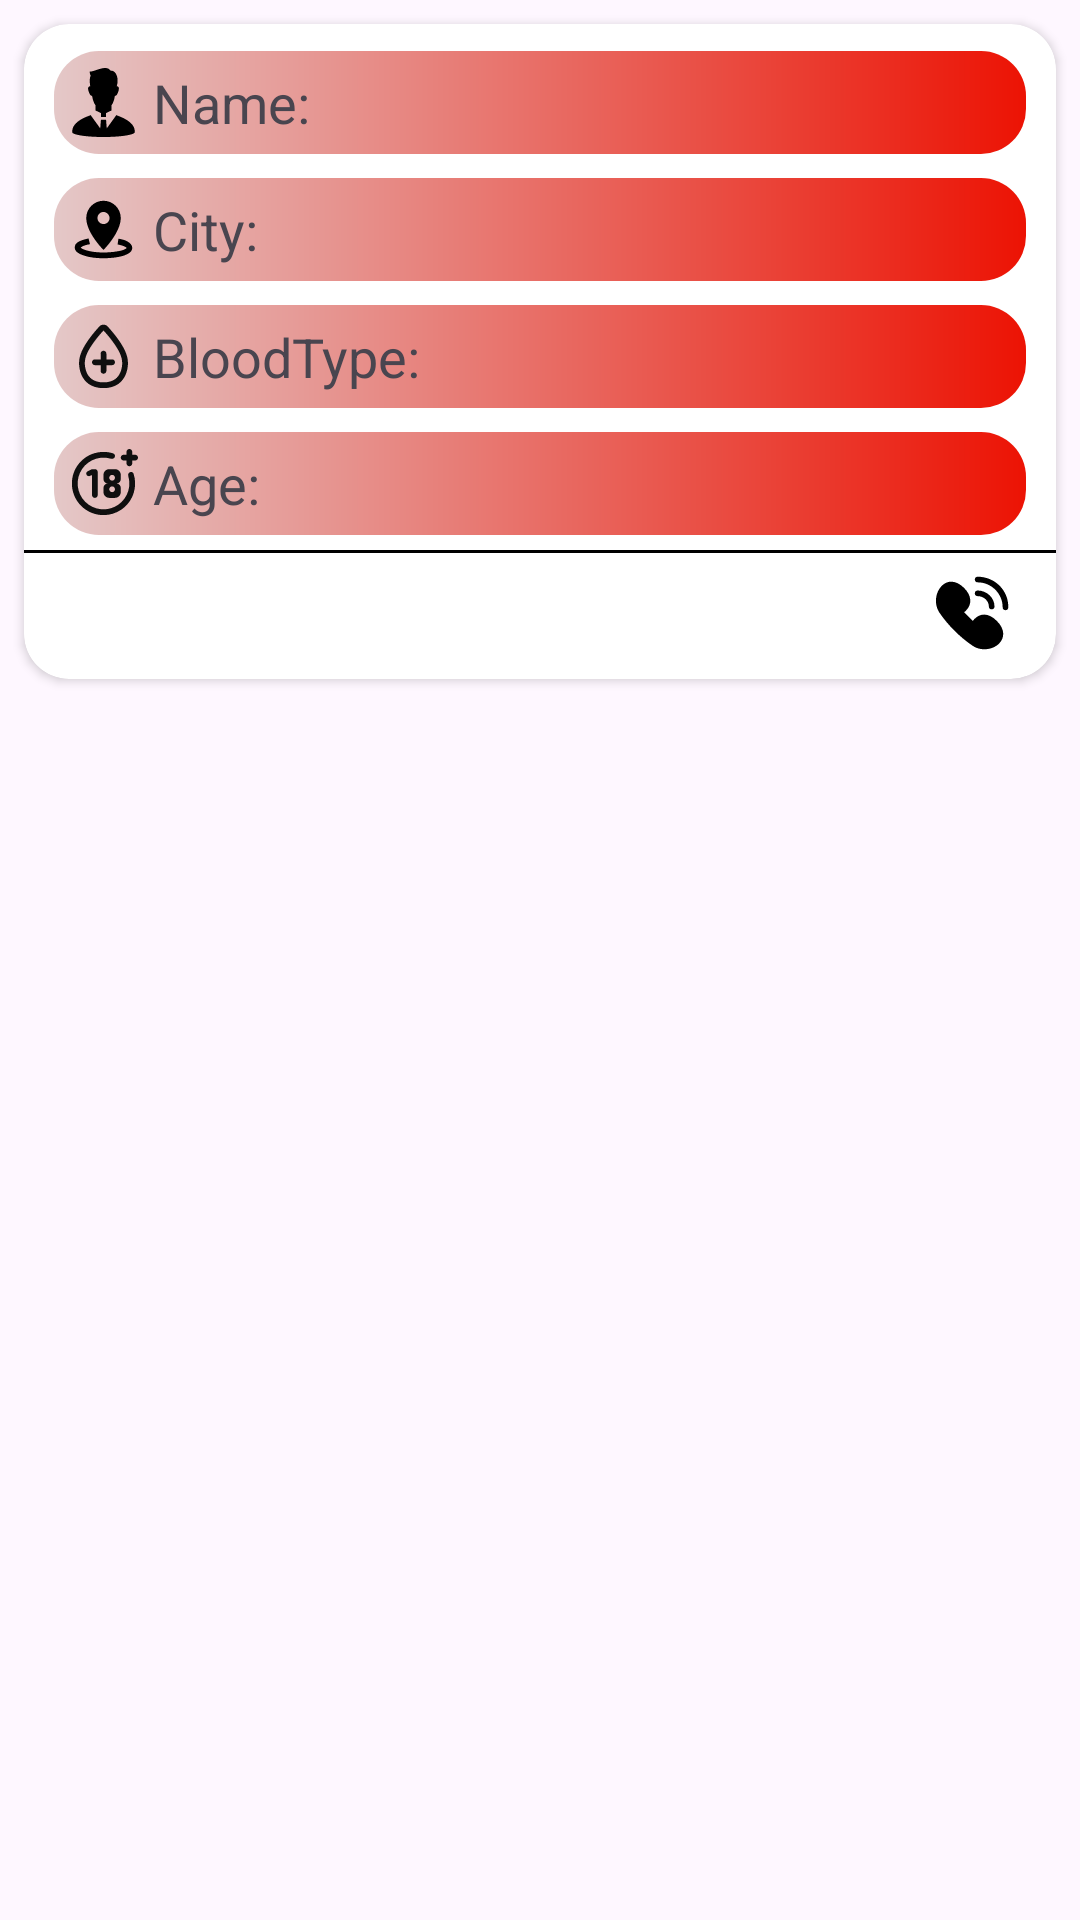

Screen size 1080x1920. Icon name, then its box in pixels as {"x1": x1, "y1": y1, "x2": x2, "y2": y2}:
phone call ringing: {"x1": 936, "y1": 576, "x2": 1009, "y2": 650}
